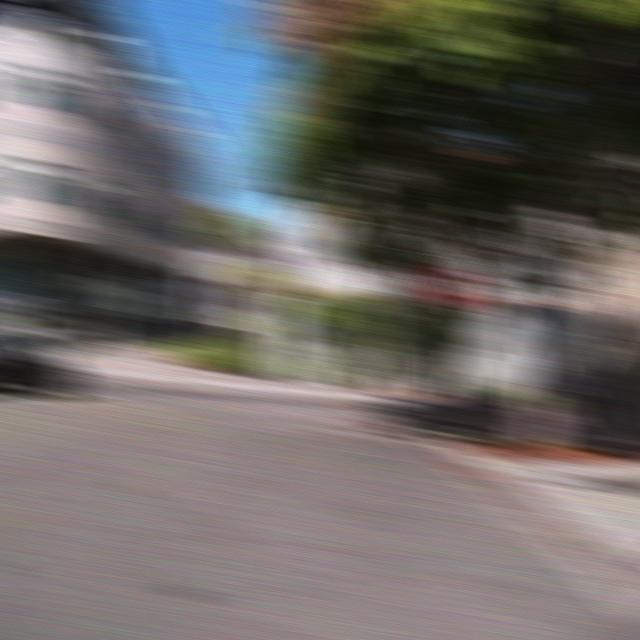stop_sign: (424, 261, 478, 312)
